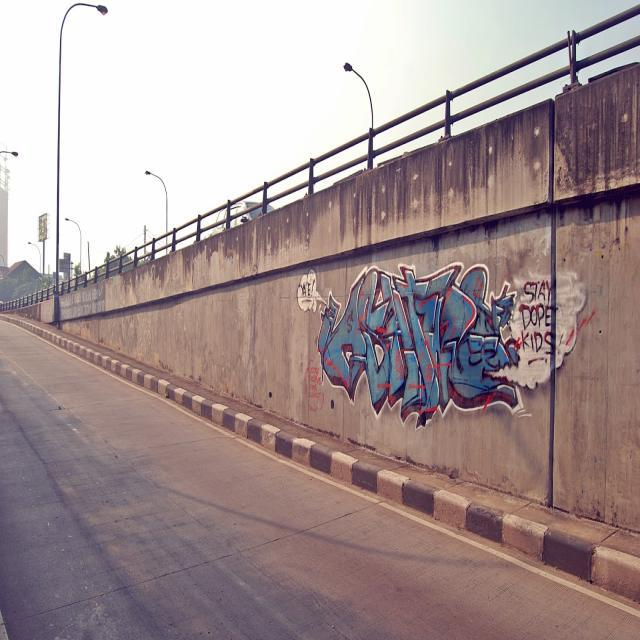-: (300, 260, 598, 430)
